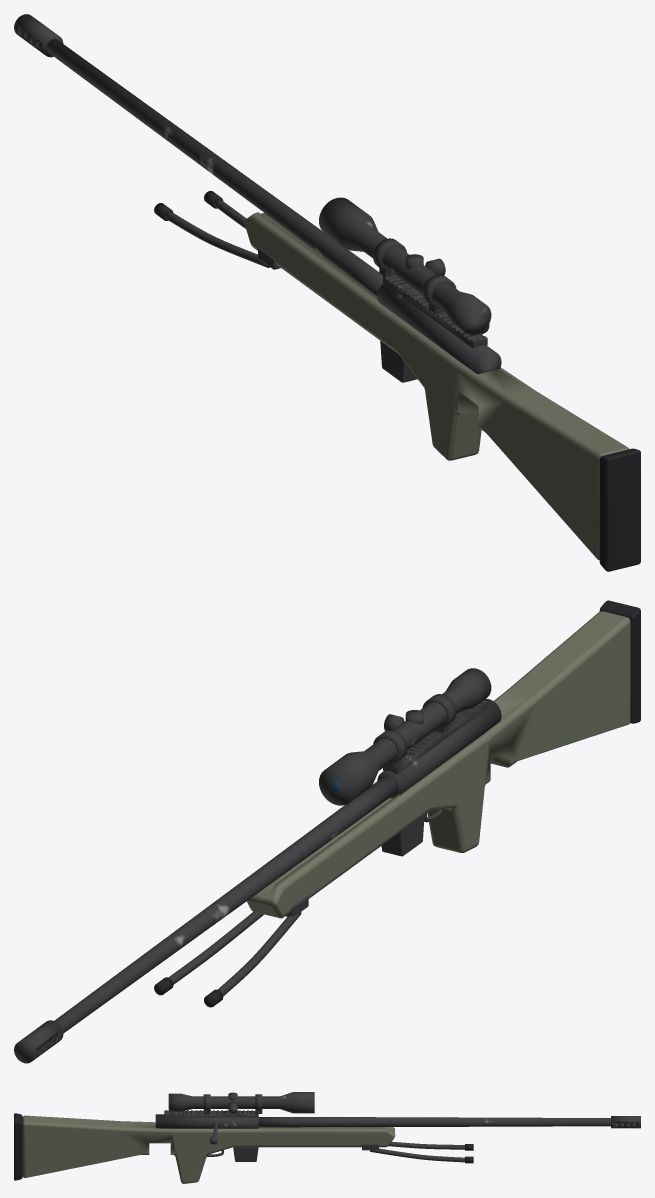
Rendered from Weapon_Sniper.fbx.
3 views of the same model, one above another, from view 1: azimuth 30°, elevation 25°; view 2: azimuth 150°, elevation 25°; view 3: azimuth 270°, elevation 25° (orthographic). The views are drawn at different scales.
Parts seen in each view (by area): view 1: Weapon_Sniper_Game; view 2: Weapon_Sniper_Game; view 3: Weapon_Sniper_Game.
Boxes of the visible parts, x1,y1,x2,y2 form: Weapon_Sniper_Game: [14, 14, 640, 571]; Weapon_Sniper_Game: [14, 600, 640, 1063]; Weapon_Sniper_Game: [14, 1092, 640, 1183].
Size of the model in its own units: 0.118 by 0.2253 by 1.46.
